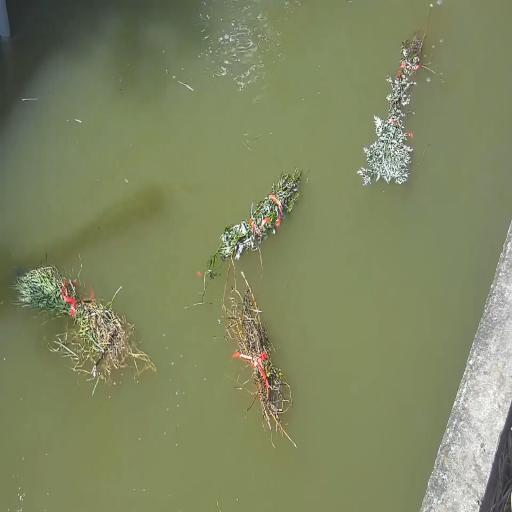twig: (10, 254, 156, 396), (223, 258, 296, 447), (358, 4, 432, 185), (205, 169, 302, 278)
